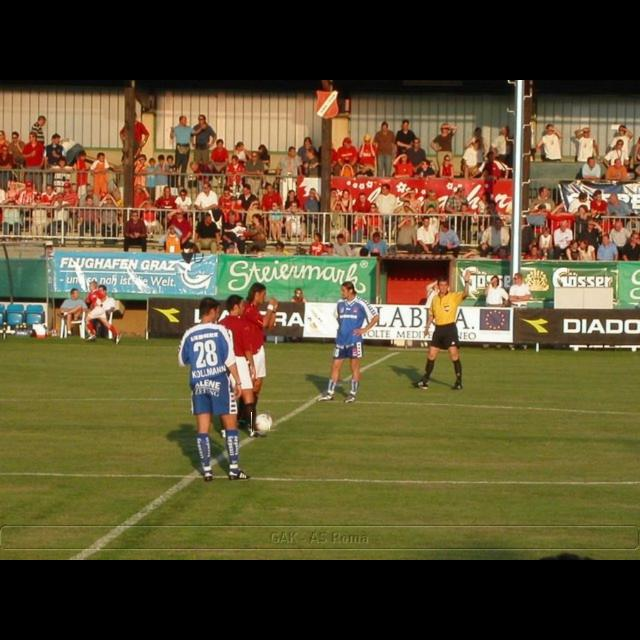Football: (252, 410, 270, 432)
